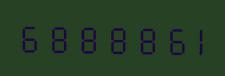eight: (44, 18, 70, 55), (98, 19, 124, 56), (71, 19, 97, 55), (125, 20, 151, 56)
one: (179, 21, 205, 57)
six: (152, 20, 178, 57), (17, 18, 43, 54)
